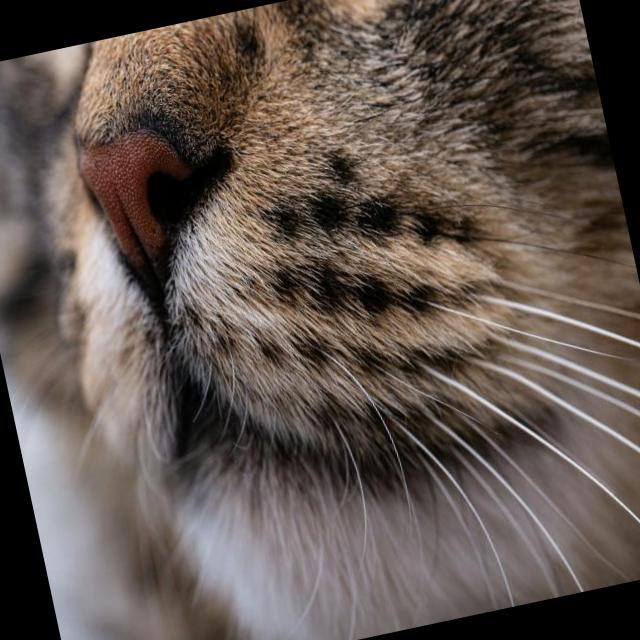Healthy skin: (225, 148, 410, 362), (398, 185, 538, 352), (417, 0, 568, 134)
